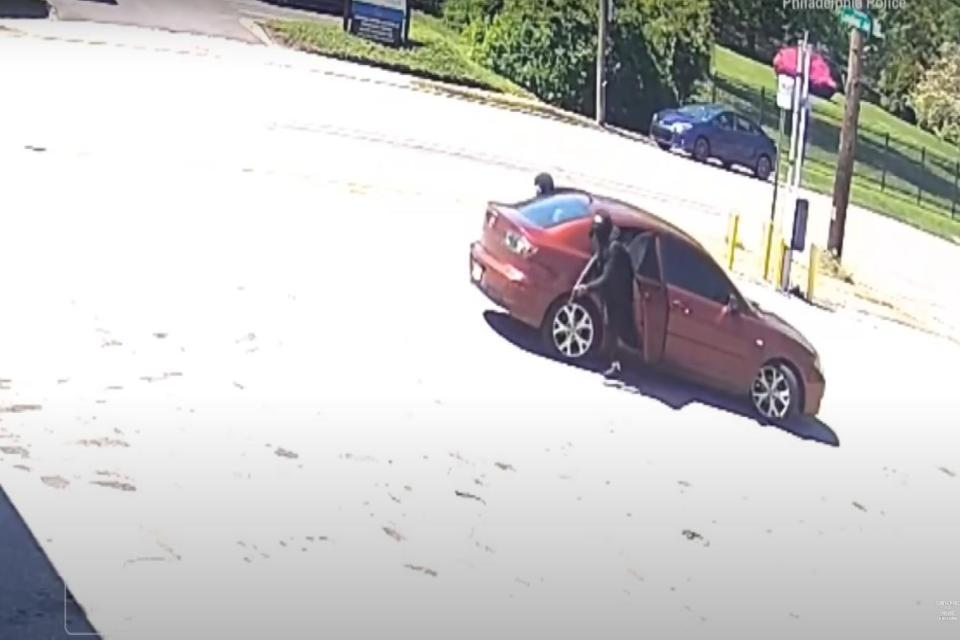non-violence: (570, 204, 634, 386)
weapon: (566, 250, 604, 310)
